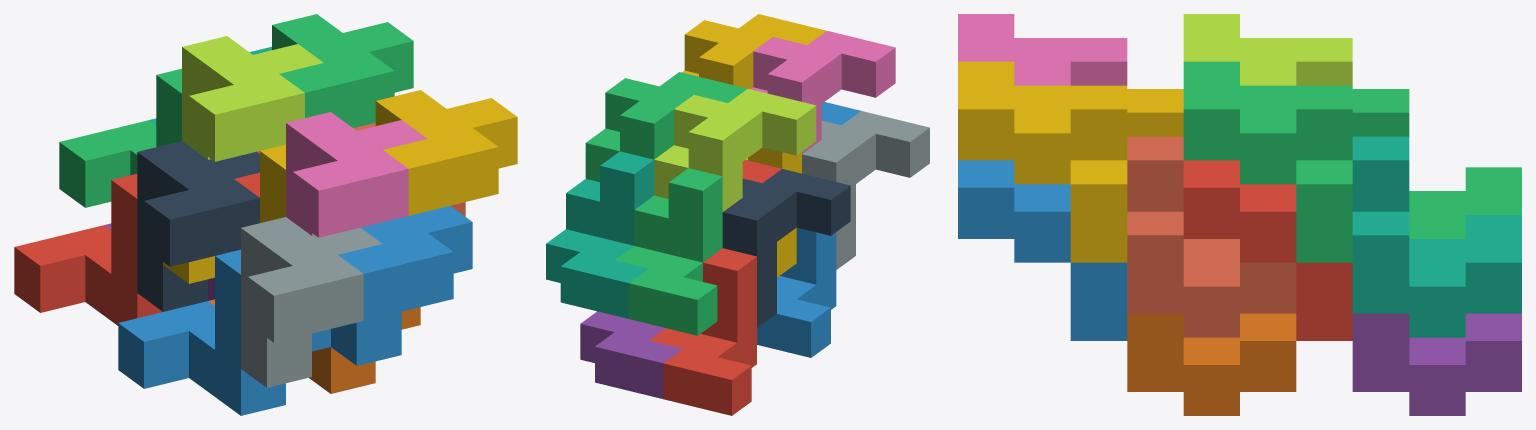
Rendered from tiling.obj.
The picture shows the model from 3 angles, left to right: view 1: azimuth 30°, elevation 25°; view 2: azimuth 150°, elevation 25°; view 3: azimuth 270°, elevation 25°; orthographic projection. The views are drawn at different scales.
Parts seen in each view (by area): view 1: copy_2_domain_2, copy_2_domain_1, copy_2_domain_4, copy_1_domain_2, copy_2_domain_6, copy_2_domain_3, copy_2_domain_8, copy_1_domain_1, copy_2_domain_7, copy_1_domain_3, copy_1_domain_4, copy_1_domain_6; view 2: copy_1_domain_3, copy_1_domain_7, copy_2_domain_3, copy_1_domain_1, copy_2_domain_1, copy_2_domain_4, copy_2_domain_2, copy_2_domain_7, copy_1_domain_2, copy_1_domain_5, copy_2_domain_8, copy_1_domain_4 (+2 smaller); view 3: copy_2_domain_8, copy_1_domain_7, copy_2_domain_7, copy_1_domain_8, copy_2_domain_6, copy_2_domain_5, copy_1_domain_5, copy_1_domain_6, copy_1_domain_3, copy_2_domain_4, copy_2_domain_3, copy_1_domain_4.
Part boxes in pixels (x1,y1,x2,y2): copy_2_domain_2: (241,217,382,387); copy_2_domain_1: (137,141,259,311); copy_2_domain_4: (286,112,427,237); copy_1_domain_2: (118,249,330,415); copy_2_domain_6: (331,205,472,365); copy_2_domain_3: (182,36,323,161); copy_2_domain_8: (375,90,517,215); copy_1_domain_1: (14,173,162,325); copy_2_domain_7: (272,14,413,127); copy_1_domain_3: (59,68,181,207); copy_1_domain_4: (163,144,285,283); copy_1_domain_6: (208,299,420,393); copy_1_domain_3: (615,168,722,335); copy_1_domain_7: (546,151,654,318); copy_2_domain_3: (654,89,816,211); copy_1_domain_1: (649,248,756,415); copy_2_domain_1: (722,169,850,327); copy_2_domain_4: (751,31,895,153); copy_2_domain_2: (802,111,929,269); copy_2_domain_7: (585,72,747,182); copy_1_domain_2: (757,227,836,357); copy_1_domain_5: (580,311,682,398); copy_2_domain_8: (682,14,826,89); copy_1_domain_4: (745,147,801,277); copy_2_domain_8: (958,61,1127,262); copy_1_domain_7: (1352,136,1521,337); copy_2_domain_7: (1183,61,1352,262); copy_1_domain_8: (1127,136,1296,337); copy_2_domain_6: (958,160,1127,340); copy_2_domain_5: (1183,160,1352,340); copy_1_domain_5: (1352,313,1521,415); copy_1_domain_6: (1127,313,1296,415); copy_1_domain_3: (1352,89,1521,238); copy_2_domain_4: (958,14,1127,85); copy_2_domain_3: (1183,14,1352,85); copy_1_domain_4: (1127,89,1183,136).
Size of the model in its own units: 6 by 6 by 10.
